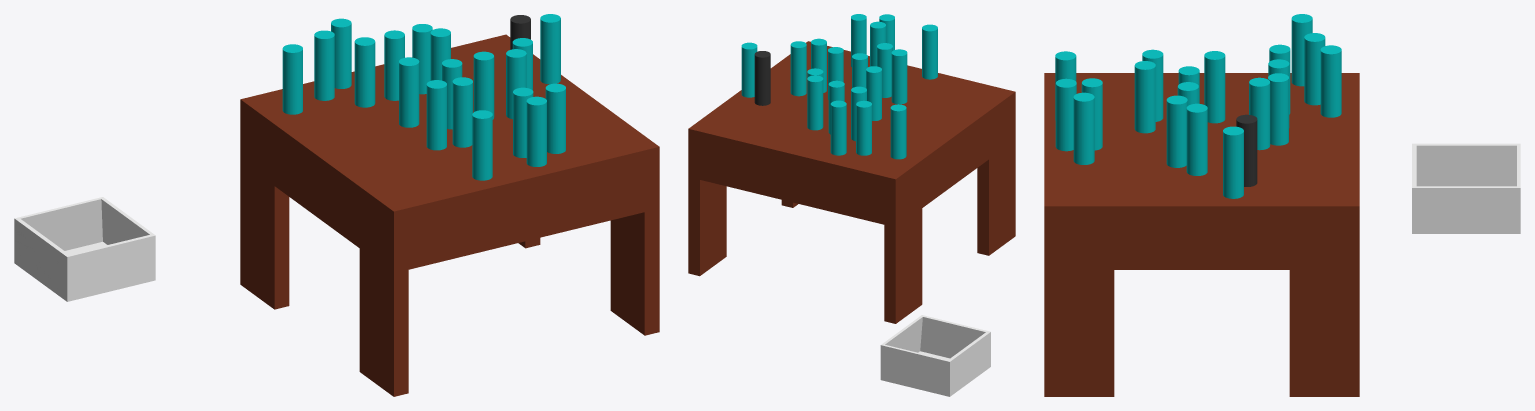
Rendered from can_world_20_cans.dae.
The picture shows the model from 3 angles, left to right: view 1: azimuth 30°, elevation 25°; view 2: azimuth 150°, elevation 25°; view 3: azimuth 270°, elevation 25°; orthographic projection. The views are drawn at different scales.
Parts seen in each view (by area): view 1: base (×22), SketchUp (×2); view 2: base (×23), SketchUp (×2); view 3: base (×20), SketchUp (×2).
Part boxes in pixels (x1,y1,x2,y2): base (×22): (240,14,659,396); SketchUp (×2): (14,197,155,301); base (×23): (688,14,1015,323); SketchUp (×2): (880,315,990,396); base (×20): (1044,14,1359,396); SketchUp (×2): (1412,143,1520,233).
Size of the model in its own units: 1.4 by 1.36 by 0.811.
